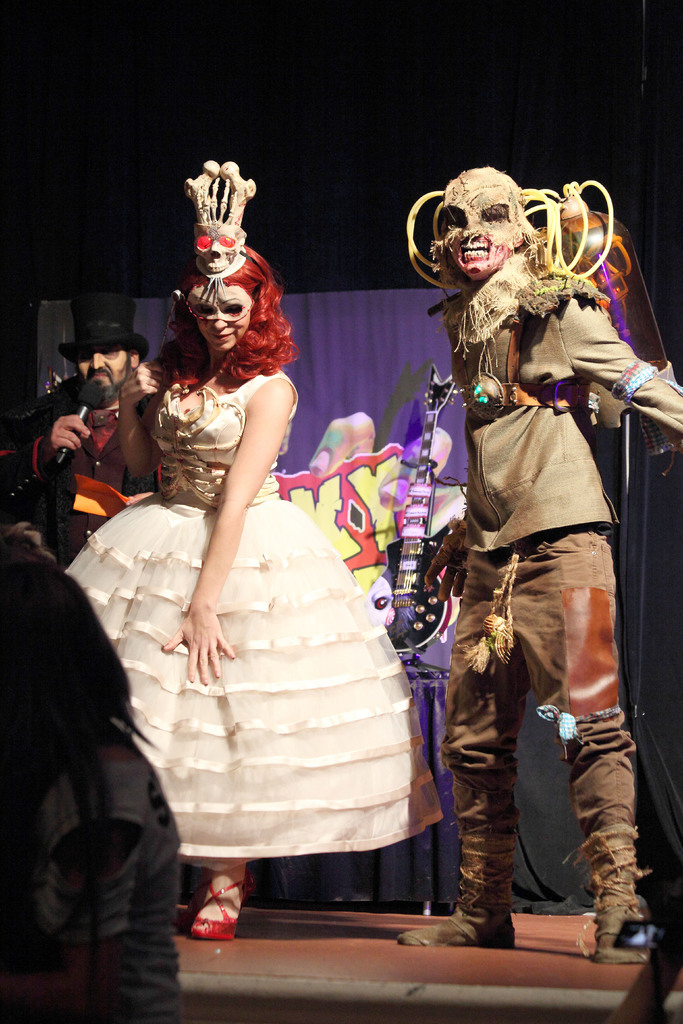Human_hand: (174, 573, 224, 693), (417, 535, 473, 600), (118, 353, 170, 406), (47, 413, 93, 452)
